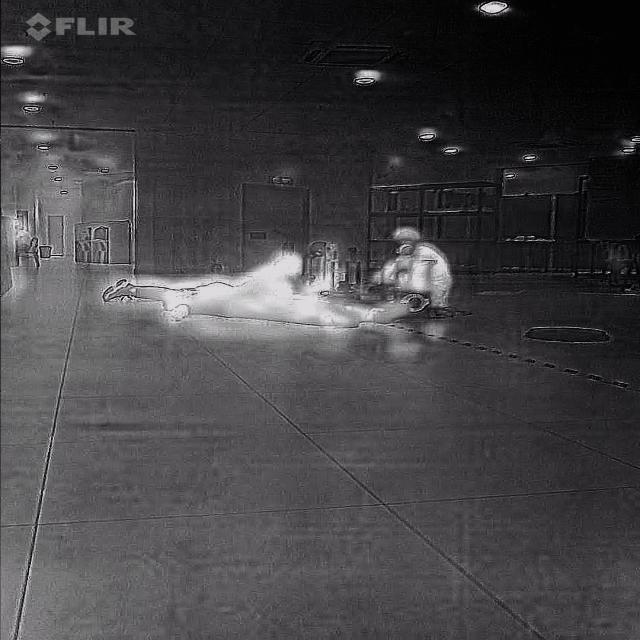Victim: (156, 279, 420, 328), (103, 247, 306, 297), (368, 222, 466, 313)
